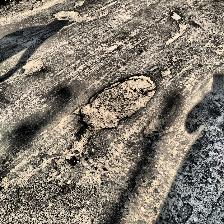pothole: (66, 74, 156, 152), (142, 102, 178, 140), (162, 10, 188, 46), (18, 57, 46, 75), (52, 10, 83, 24), (160, 68, 172, 76), (74, 0, 85, 8)
